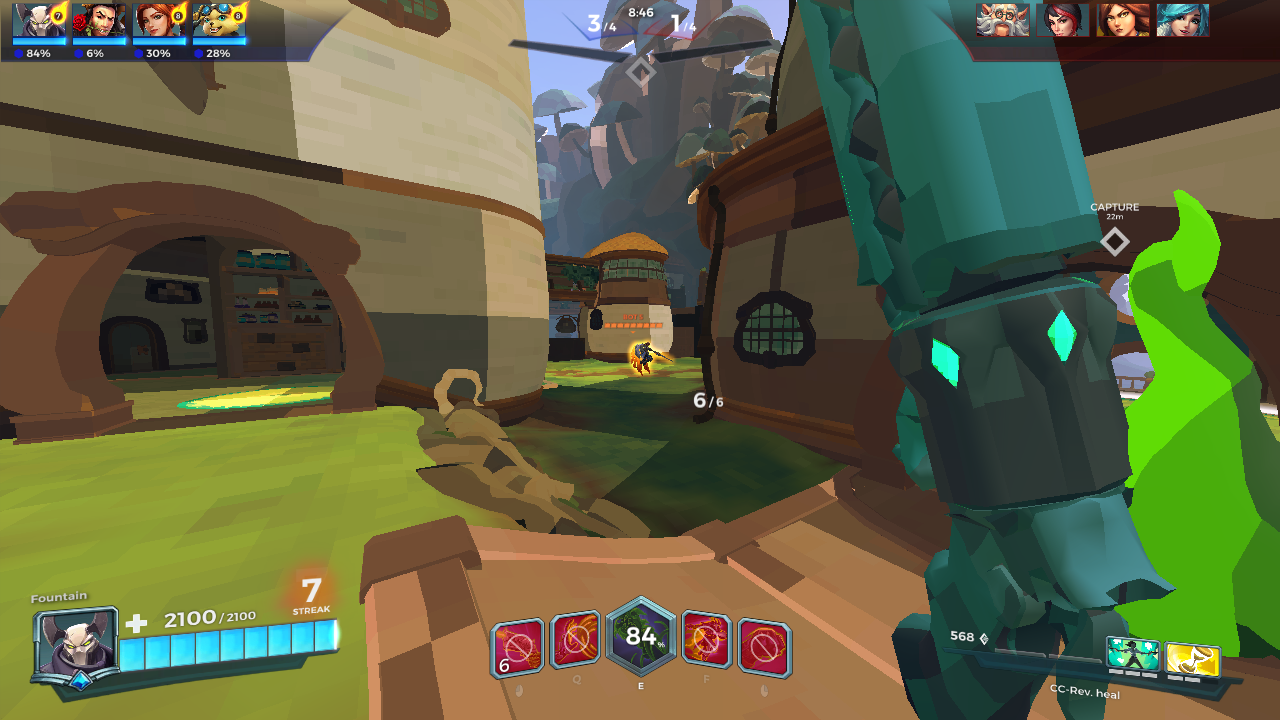model: (622, 338, 670, 377)
